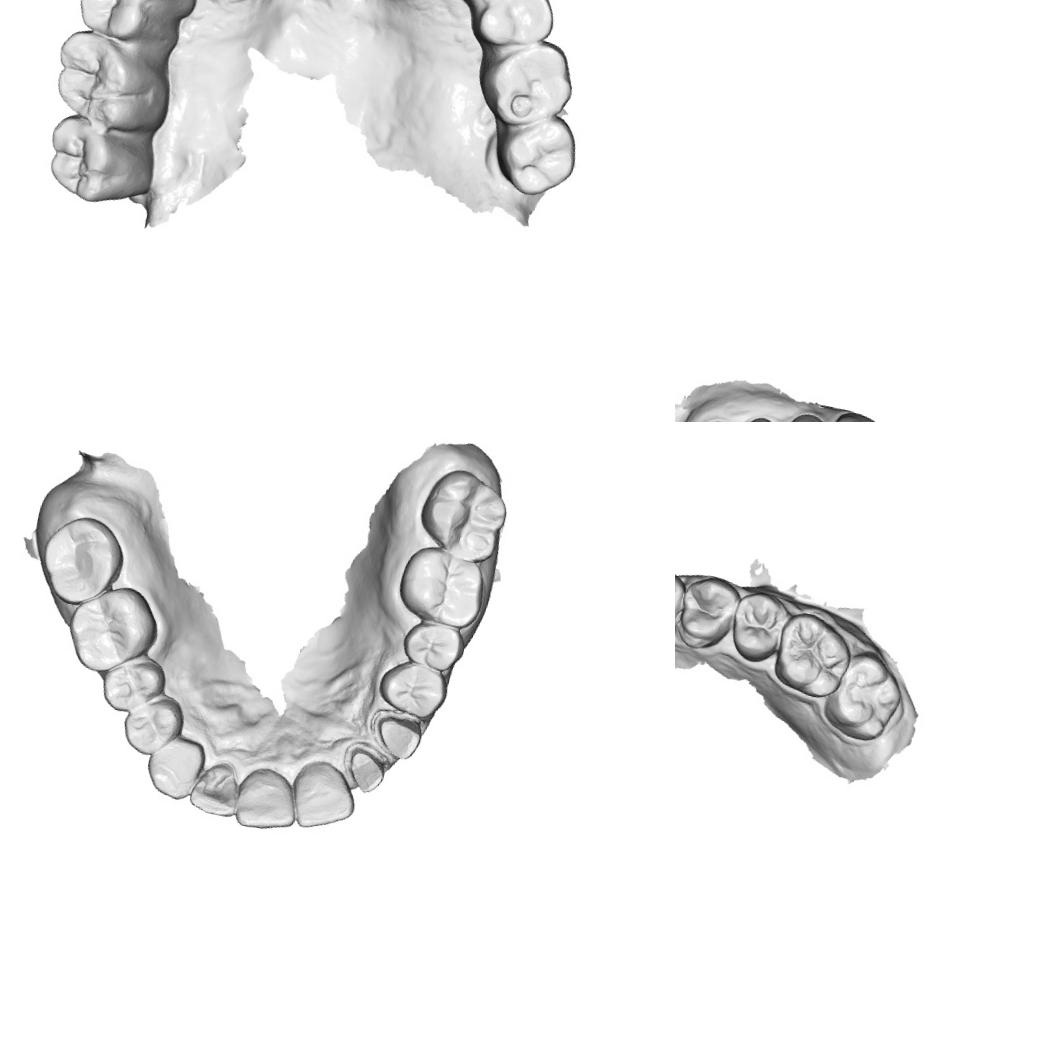canine: (139, 728, 208, 805), (675, 561, 691, 633), (824, 406, 890, 422)
crown: (361, 706, 426, 768), (337, 740, 394, 799)
incisor: (285, 754, 364, 838), (230, 760, 307, 838), (184, 753, 247, 821)
molar: (43, 24, 169, 138), (470, 28, 585, 138), (59, 576, 167, 686), (37, 110, 146, 212), (413, 461, 516, 565), (31, 508, 132, 614), (484, 104, 586, 206), (390, 540, 497, 634), (818, 646, 909, 748), (768, 608, 858, 704)
premolar: (675, 570, 745, 657), (725, 585, 795, 668), (466, 0, 561, 59), (371, 656, 453, 724), (116, 688, 191, 762), (94, 649, 170, 720), (396, 615, 470, 675), (69, 0, 161, 47), (771, 406, 840, 422)
